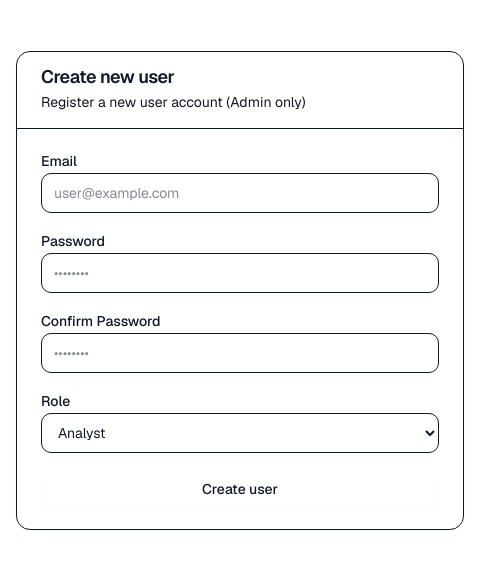
Test: RegisterPage › should show error when password is too short
Type "short@example.com" into the field labelled "Email".
click(240, 192); type("short@example.com")  # box x1=41 y1=172 x2=439 y2=212
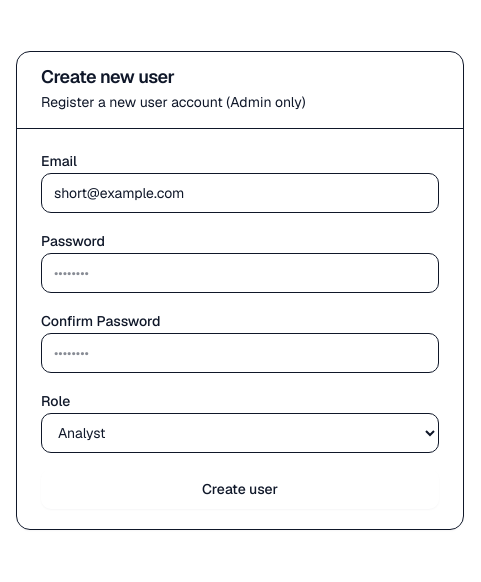
Type "short" into the password field labelled "Password".
click(240, 272); type("short")  # box x1=41 y1=252 x2=439 y2=292
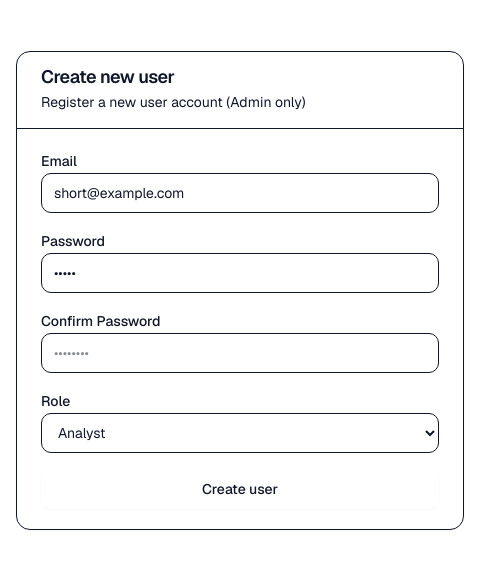
Type "short" into the password field labelled "Confirm Password".
click(240, 352); type("short")  # box x1=41 y1=332 x2=439 y2=372
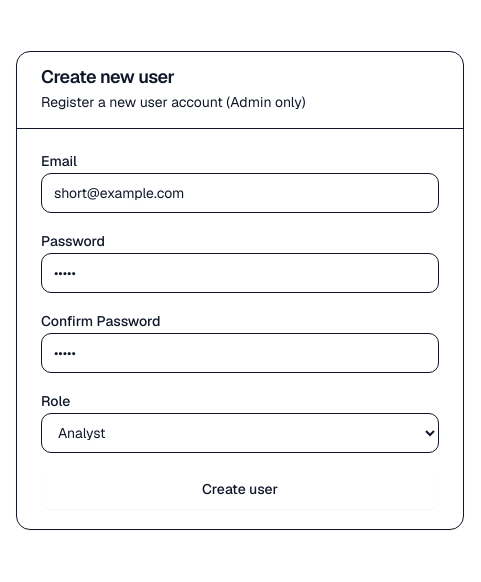
Submit the form from the button "Create user", box x1=41 y1=468 x2=439 y2=508
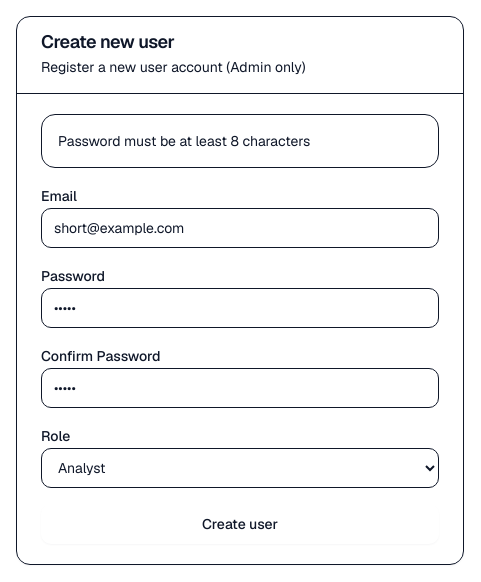
Expected: the text "Password must be at least 8 characters" is shown, x1=58 y1=132 x2=310 y2=150
